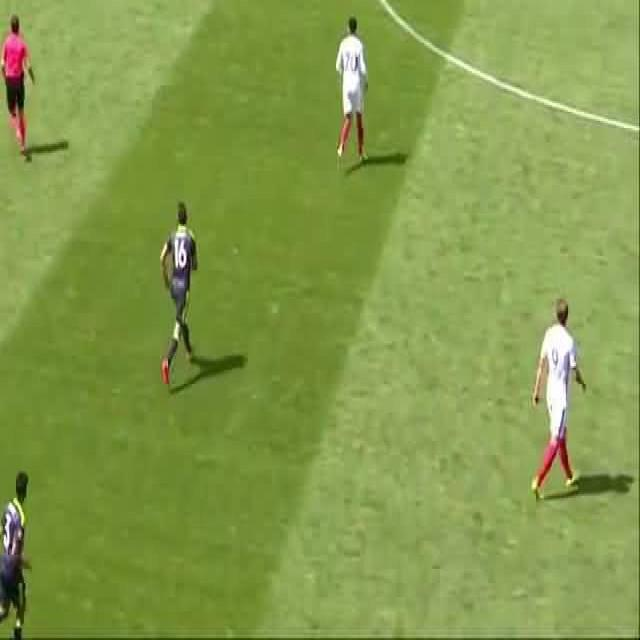player-white: (530, 298, 588, 502), (158, 200, 198, 386), (0, 471, 32, 640), (1, 14, 35, 162), (334, 18, 368, 162)
